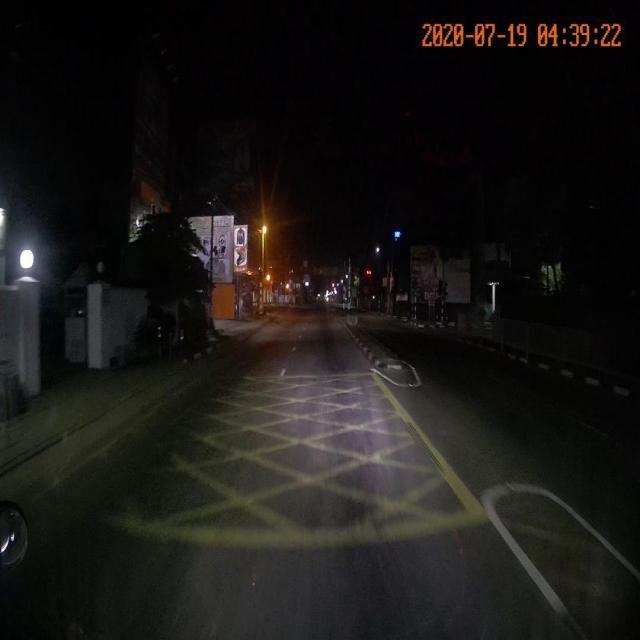Jeltaya razmetka: (92, 369, 492, 554)
